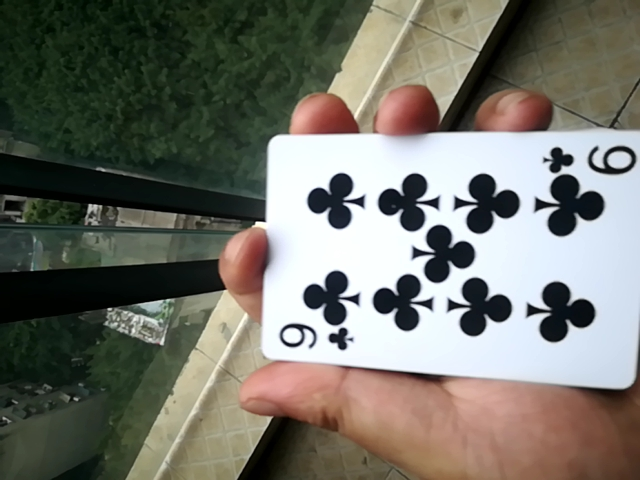mh 9: (235, 124, 628, 381)
